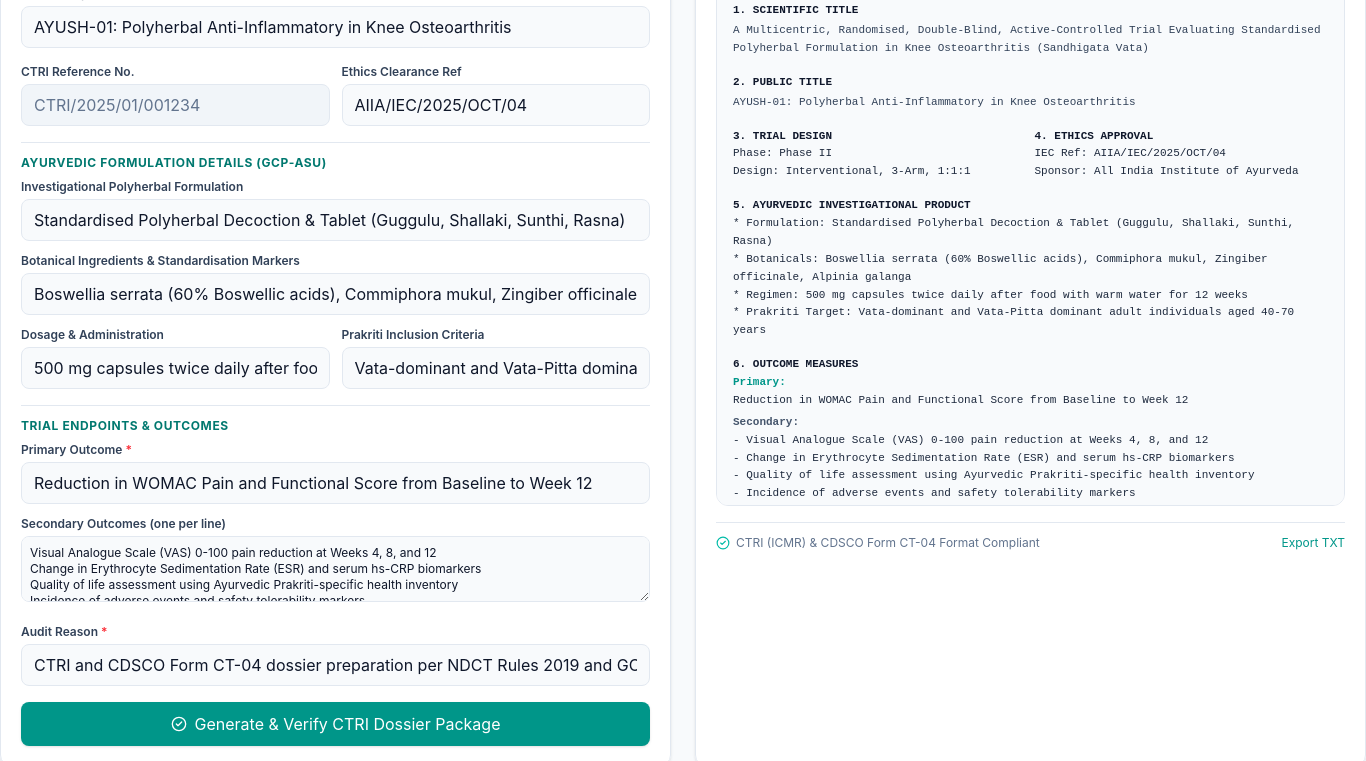
CtriFilingPage & CTRI / CDSCO Package Generator › generates and verifies CTRI regulatory submission package with audit trail
The image size is (1366, 761).
(page scrolled)
Step 1. Click the button "Generate & Verify CTRI Dossier Package" → (336, 724), box [21,702,650,746]
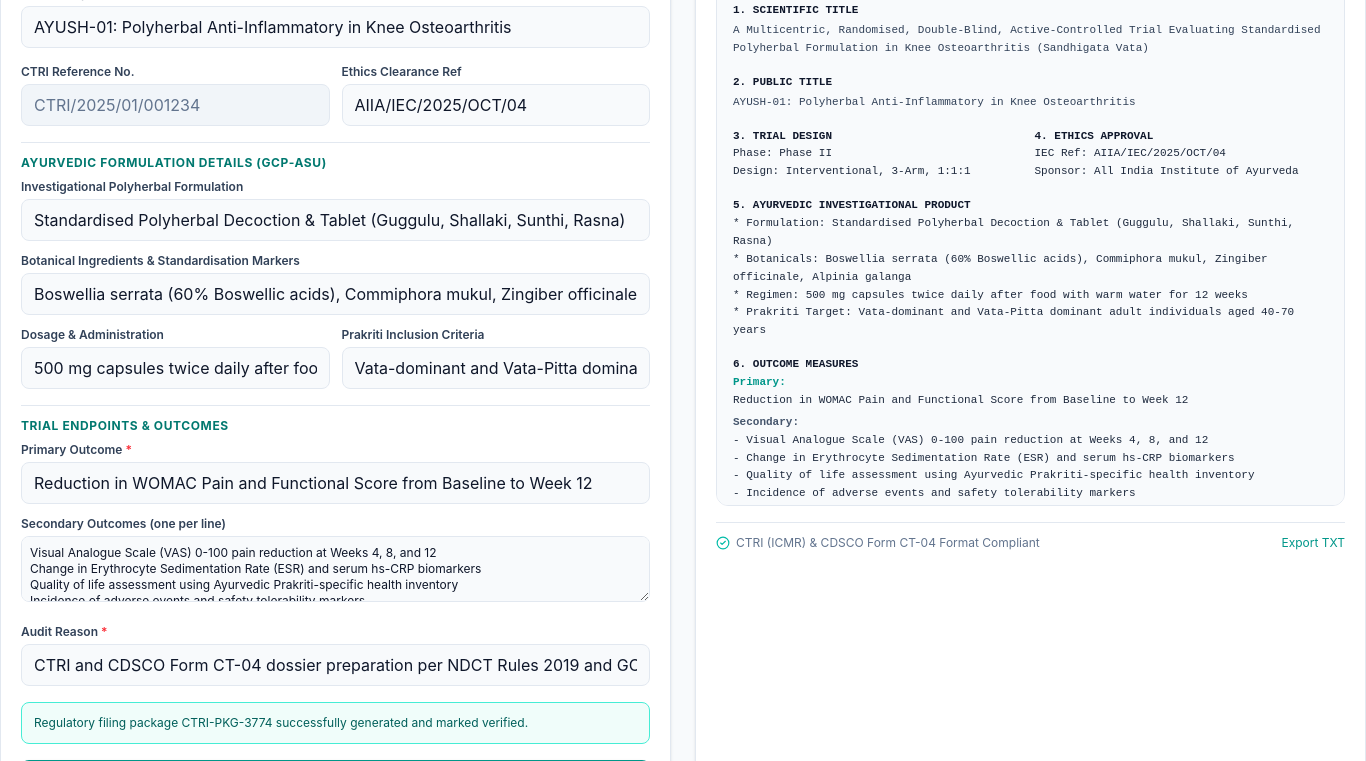
Expected: the text "successfully generated and marked verified" is shown, [34,715,528,730]
